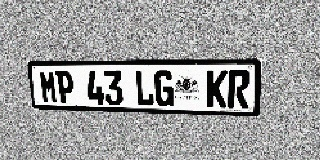3: (103, 70, 123, 105)
4: (85, 70, 105, 105)
G: (154, 70, 174, 106)
K: (206, 70, 228, 108)
L: (135, 70, 154, 106)
M: (39, 71, 58, 104)
P: (55, 70, 75, 104)
R: (227, 70, 250, 108)
